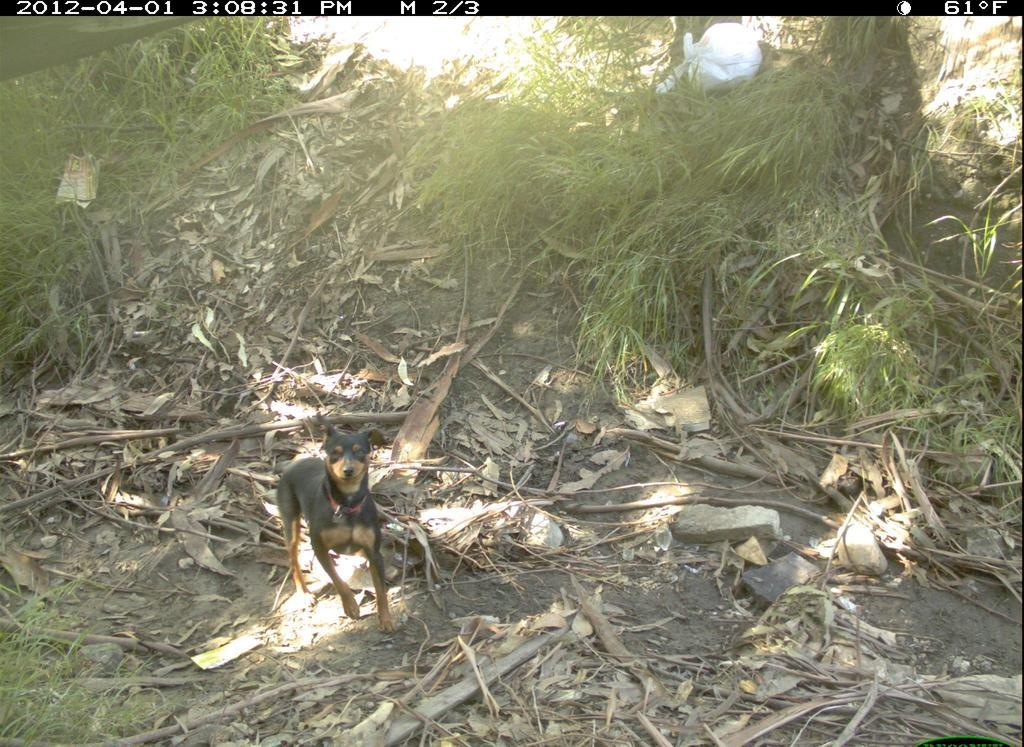dog: (268, 405, 432, 643)
